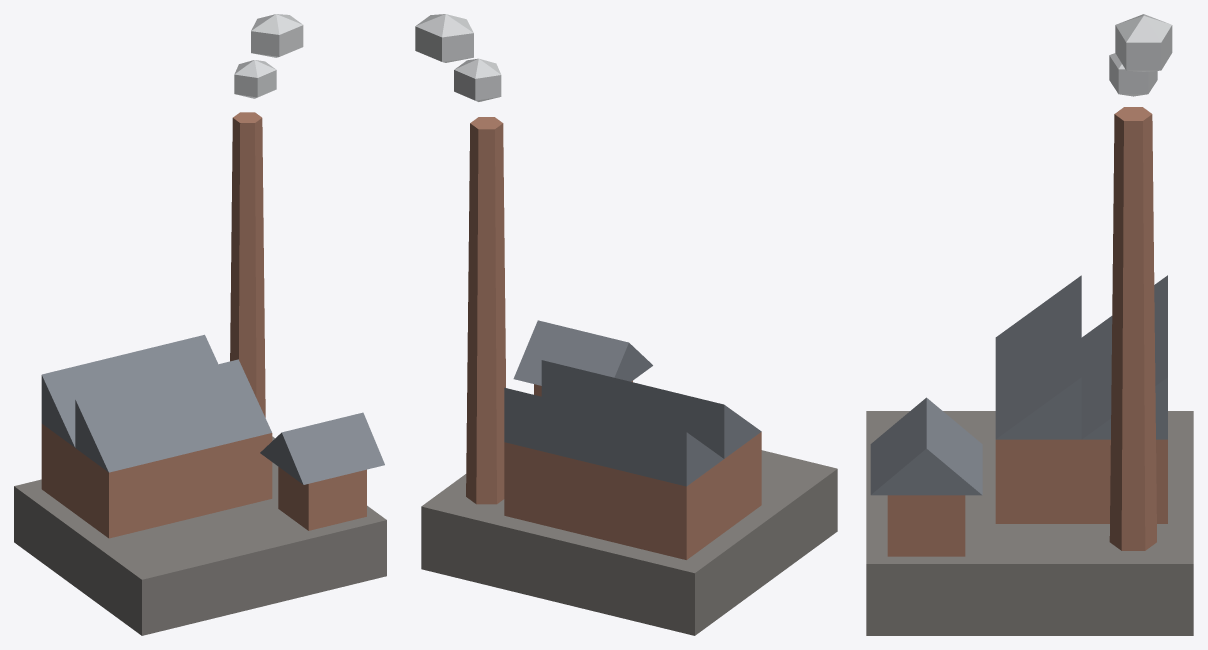
Rendered from house-industrial-2.glb.
The picture shows the model from 3 angles, left to right: view 1: azimuth 30°, elevation 25°; view 2: azimuth 150°, elevation 25°; view 3: azimuth 270°, elevation 25°; orthographic projection. The views are drawn at different scales.
Visible parts, largest first — view 1: LOD0; view 2: LOD0; view 3: LOD0.
Boxes of the visible parts, <box> form: LOD0: <box>14,14,386,635</box>; LOD0: <box>415,14,837,635</box>; LOD0: <box>866,14,1193,635</box>.
Size of what is drawn, in the model's own units: 0.2255 by 0.396 by 0.19.
